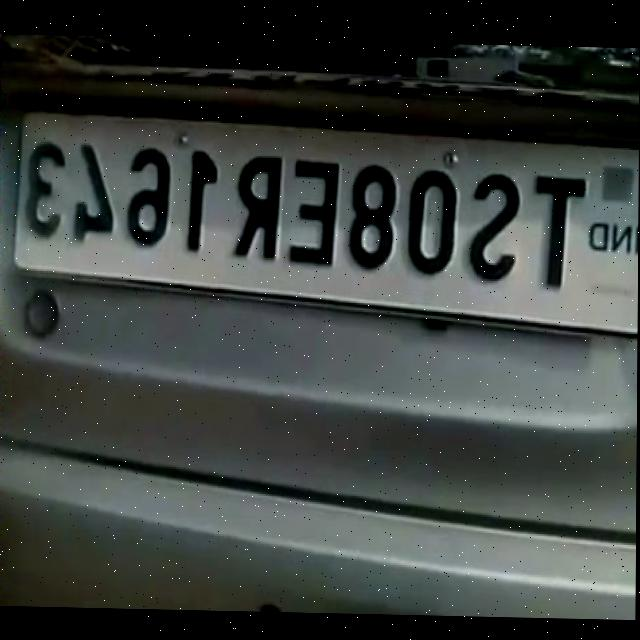plate: (0, 104, 639, 338)
